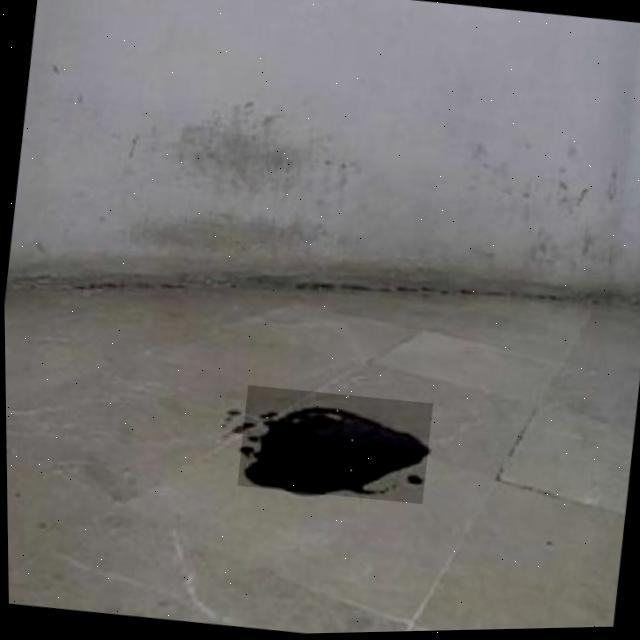spillage: (237, 395, 427, 488)
